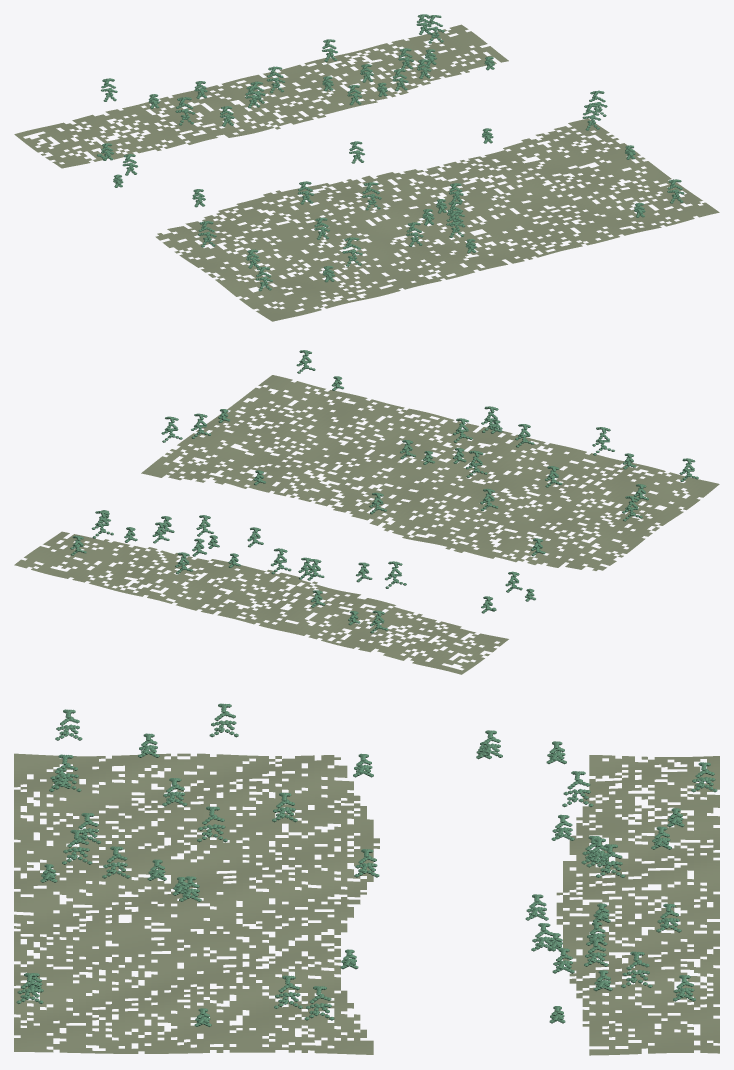
File: ALCHUL_M1_GEOMETRY_01.glb
3 renders of one model, top to bottom at view 1: azimuth 30°, elevation 25°; view 2: azimuth 150°, elevation 25°; view 3: azimuth 270°, elevation 25°, orthographic. The views are drawn at different scales.
Parts seen in each view (by area): view 1: m1__land, m1__leaf_000000_035958; view 2: m1__land, m1__leaf_000000_035958; view 3: m1__land, m1__leaf_000000_035958.
Part boxes in pixels (x1,y1,x2,y2): m1__land: (14,24,719,321); m1__leaf_000000_035958: (97,14,684,291); m1__land: (14,375,719,674); m1__leaf_000000_035958: (70,350,698,633); m1__land: (14,753,719,1055); m1__leaf_000000_035958: (16,703,717,1026).
Size of the model in its own units: 114 by 12.05 by 114.
